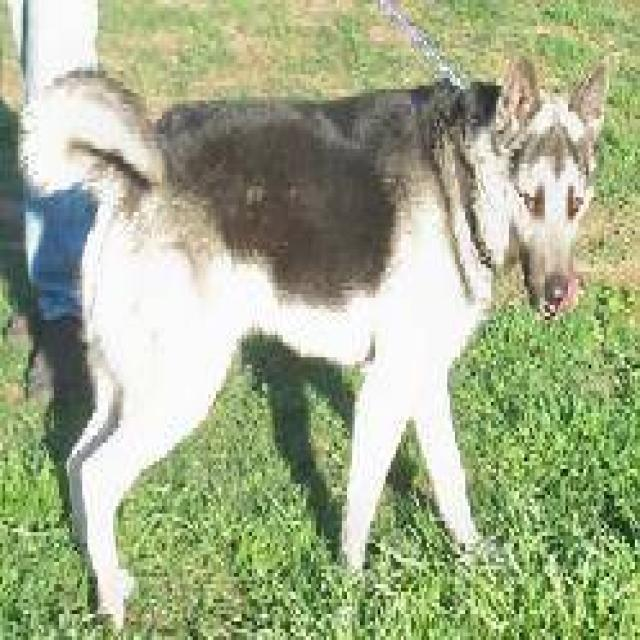dog: (18, 48, 612, 629)
